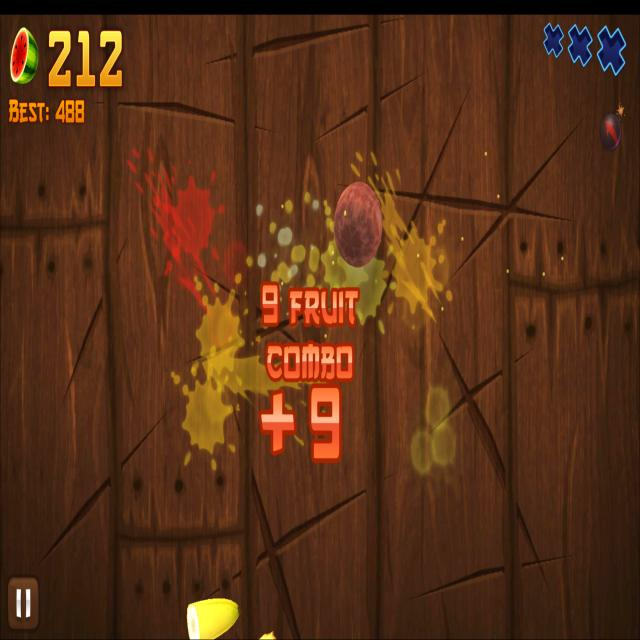fruit: (334, 180, 384, 269)
